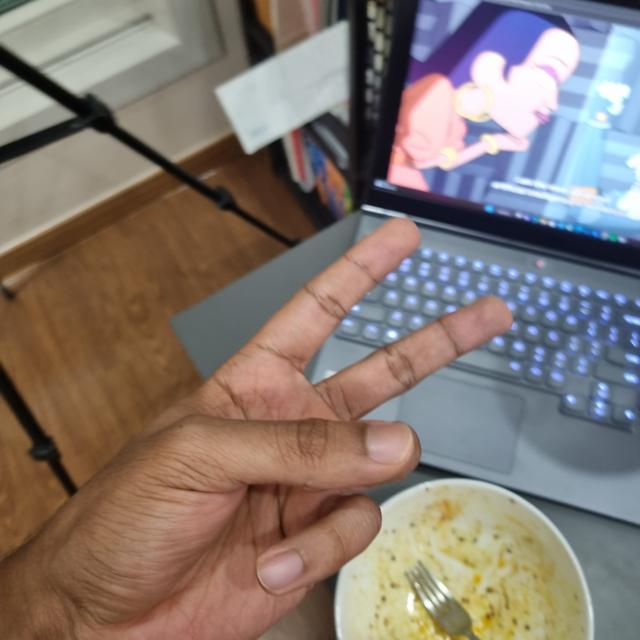Scissors: (1, 222, 511, 639)
